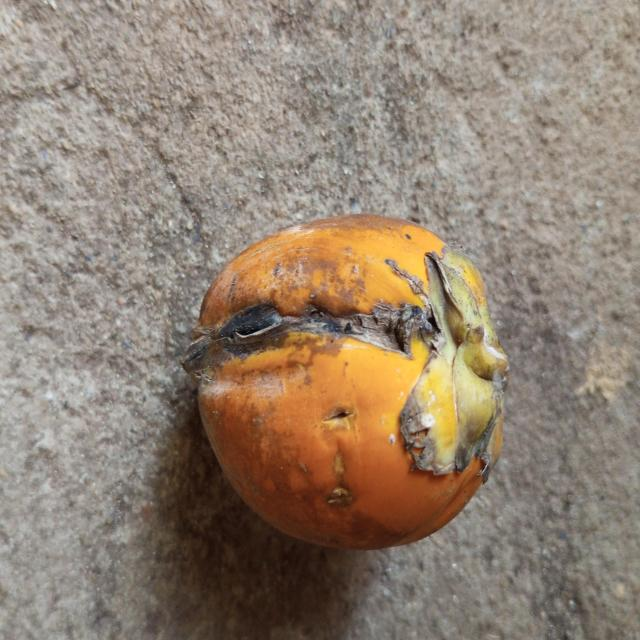damaged: (182, 215, 509, 553)
